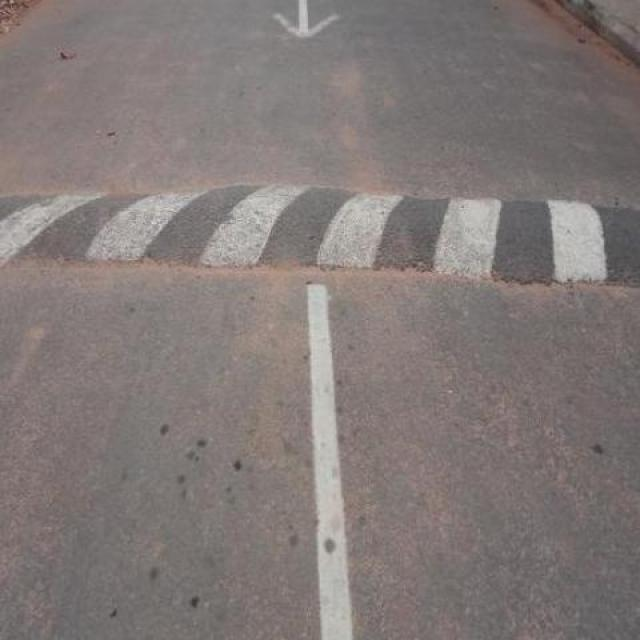Speed Bump: (0, 181, 639, 295)
